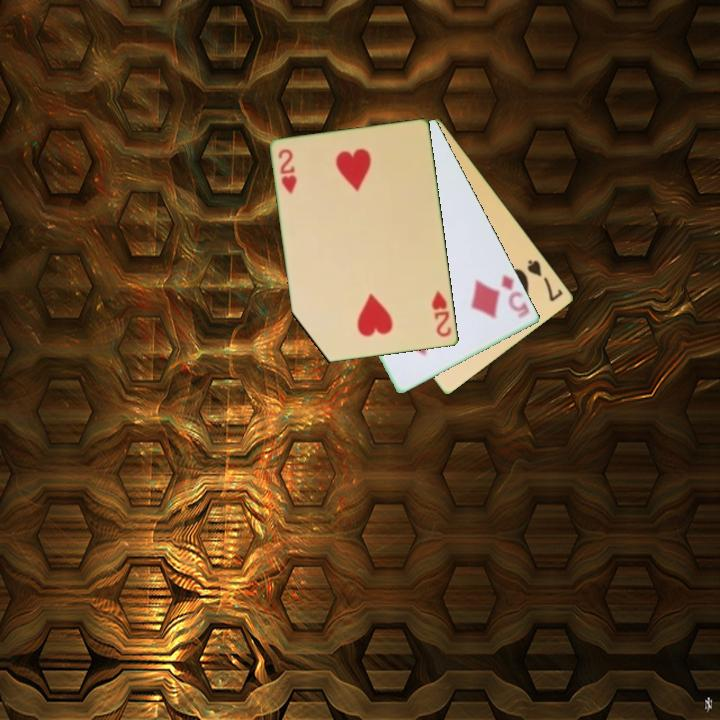2h: (428, 287, 455, 340), (275, 146, 300, 197)
5d: (498, 271, 533, 322)
7s: (524, 256, 566, 305)
